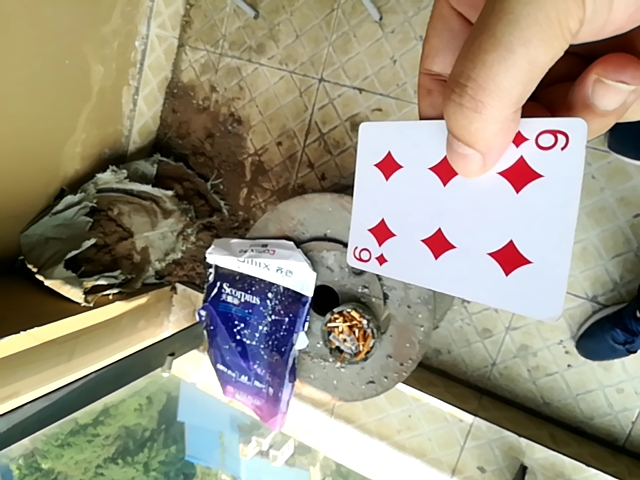fk 6: (338, 108, 590, 318)
